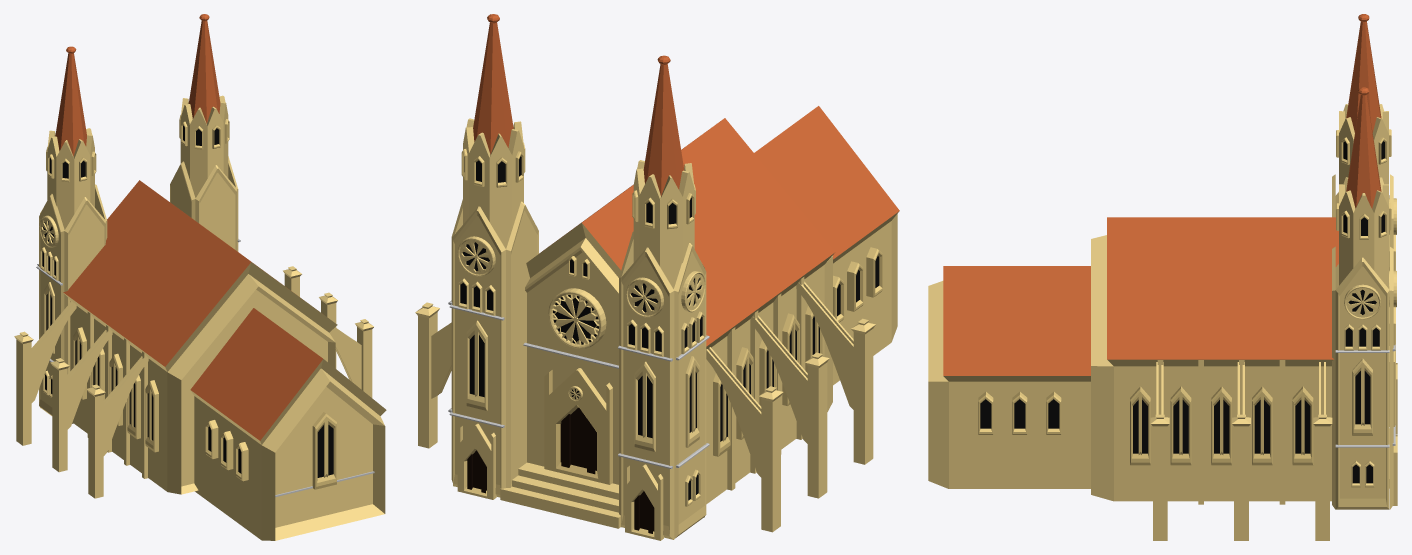
The model's file is cathedral_byzantine.obj.
The picture shows the model from 3 angles, left to right: view 1: azimuth 30°, elevation 25°; view 2: azimuth 150°, elevation 25°; view 3: azimuth 270°, elevation 25°; orthographic projection. The views are drawn at different scales.
Parts seen in each view (by area): view 1: Body_Cube.049, Body.001_Cube.095, Cylinder.006_Cylinder.008, Cylinder.007_Cylinder.009, TowerFace.000_Cube.029, TowerFace.005_Cube.010, TowerFace.003_Cube.029, Cube.056_Cube.080, Cube.054_Cube.075, Cube.059_Cube.083, Cube.071_Cube.096, Cube.061_Cube.085 (+16 smaller); view 2: Body_Cube.049, Body.001_Cube.095, Tower.001_Cube.004, Tower_Cube.004, Cylinder.006_Cylinder.008, Cylinder.007_Cylinder.009, Cube.033_Cube.052, TowerFace.002_Cube.020, TowerFace.005_Cube.010, Cube.059_Cube.083, Cube.056_Cube.080, Cube.054_Cube.075 (+29 smaller); view 3: Body_Cube.049, Body.001_Cube.095, TowerFace.001_Cube.010, Cylinder.006_Cylinder.008, Cylinder.007_Cylinder.009, Cube.062_Cube.086, Cube.068_Cube.092, Cube.065_Cube.089, Cube.052_Cube.073, Cube.049_Cube.070, Cube.051_Cube.072, Cube.050_Cube.071 (+10 smaller).
Part boxes in pixels (bbox=[...]): Body_Cube.049: bbox=[63, 180, 337, 494]; Body.001_Cube.095: bbox=[190, 308, 386, 540]; Cylinder.006_Cylinder.008: bbox=[180, 14, 228, 197]; Cylinder.007_Cylinder.009: bbox=[47, 46, 94, 229]; TowerFace.000_Cube.029: bbox=[64, 197, 105, 423]; TowerFace.005_Cube.010: bbox=[39, 194, 64, 415]; TowerFace.003_Cube.029: bbox=[195, 165, 236, 250]; Cube.056_Cube.080: bbox=[50, 358, 69, 472]; Cube.054_Cube.075: bbox=[14, 331, 33, 445]; Cube.059_Cube.083: bbox=[86, 384, 105, 498]; Cube.071_Cube.096: bbox=[312, 412, 336, 489]; Cube.061_Cube.085: bbox=[103, 356, 148, 455]; Body_Cube.049: bbox=[525, 118, 835, 504]; Body.001_Cube.095: bbox=[754, 106, 899, 385]; Tower.001_Cube.004: bbox=[621, 247, 674, 539]; Tower_Cube.004: bbox=[453, 206, 505, 497]; Cylinder.006_Cylinder.008: bbox=[463, 14, 523, 248]; Cylinder.007_Cylinder.009: bbox=[633, 55, 694, 288]; Cube.033_Cube.052: bbox=[544, 368, 612, 484]; TowerFace.002_Cube.020: bbox=[506, 201, 538, 487]; TowerFace.005_Cube.010: bbox=[673, 243, 706, 538]; Cube.059_Cube.083: bbox=[851, 318, 875, 464]; Cube.056_Cube.080: bbox=[805, 352, 829, 498]; Cube.054_Cube.075: bbox=[759, 386, 783, 532]; Body_Cube.049: bbox=[1091, 217, 1338, 501]; Body.001_Cube.095: bbox=[928, 266, 1090, 488]; TowerFace.001_Cube.010: bbox=[1335, 257, 1389, 509]; Cylinder.006_Cylinder.008: bbox=[1339, 87, 1388, 288]; Cylinder.007_Cylinder.009: bbox=[1339, 14, 1388, 184]; Cube.062_Cube.086: bbox=[1150, 414, 1169, 540]; Cube.068_Cube.092: bbox=[1313, 414, 1332, 540]; Cube.065_Cube.089: bbox=[1232, 414, 1250, 540]; Cube.052_Cube.073: bbox=[1292, 386, 1313, 465]; Cube.049_Cube.070: bbox=[1170, 386, 1191, 465]; Cube.051_Cube.072: bbox=[1252, 386, 1272, 465]; Cube.050_Cube.071: bbox=[1211, 386, 1231, 465].
Bounding box in the file's own units: 13.44 × 16.79 × 17.34.
